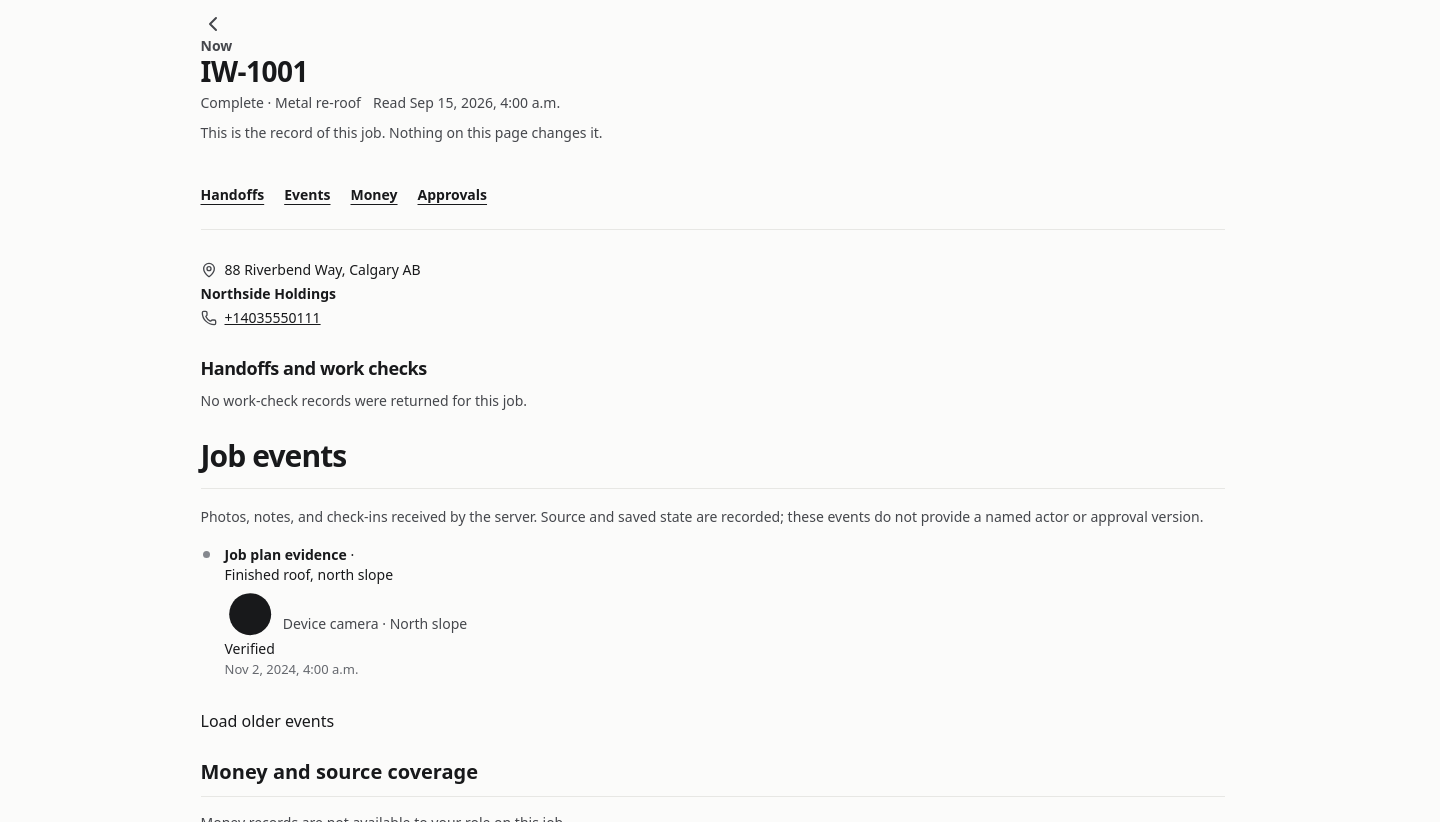
Test: preserves loaded job events and the cursor when an older page cannot be read
Click the button "Load older events": (267, 722) [200,710,334,734]
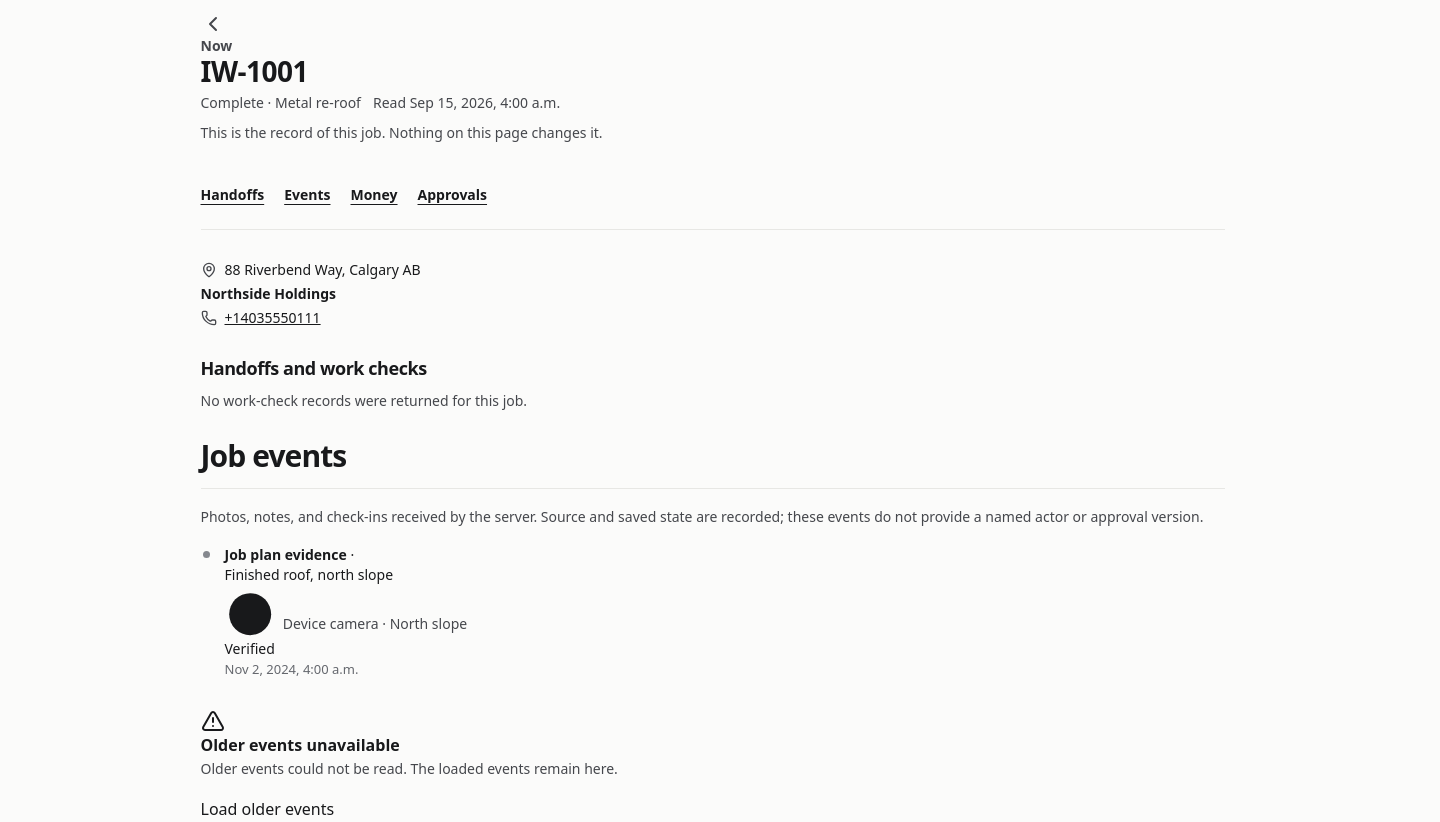
expect the text "Finished roof, north slope" is shown: met, box [224,565,393,584]
expect the text "Older events unavailable" is shown: met, box [200,734,400,756]
